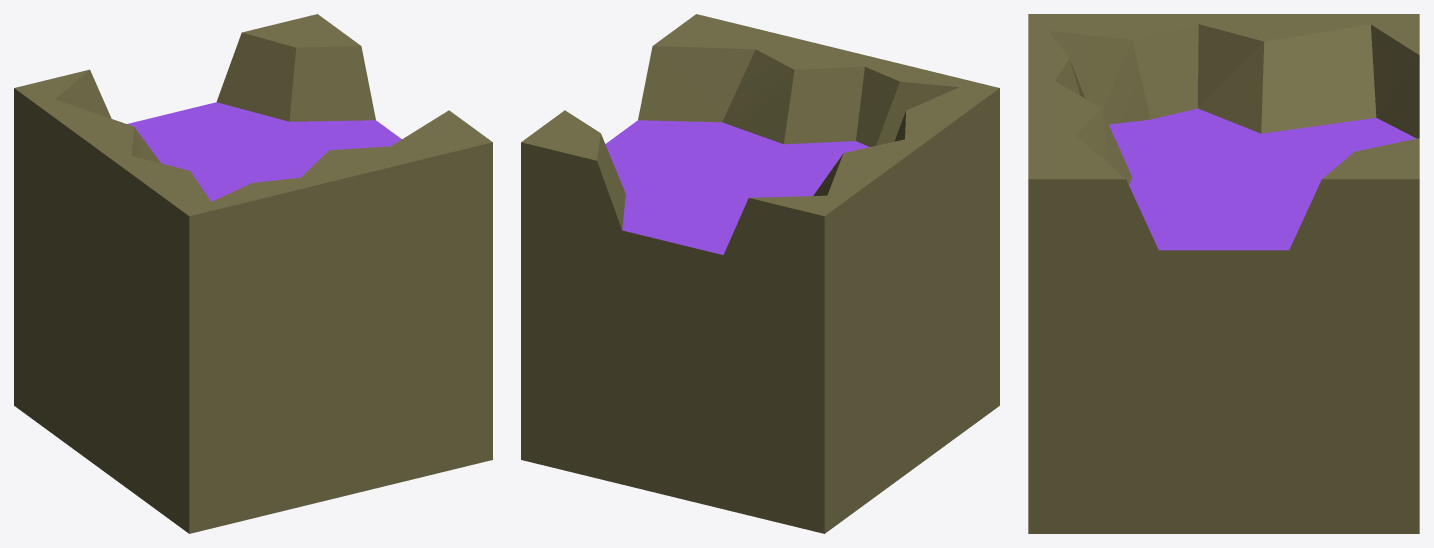
File: tile_toxic_deep2_4_01.fbx
3 renders of one model, left to right at view 1: azimuth 30°, elevation 25°; view 2: azimuth 150°, elevation 25°; view 3: azimuth 270°, elevation 25°, orthographic. The views are drawn at different scales.
Parts seen in each view (by area): view 1: tile_toxic_deep2_4_01; view 2: tile_toxic_deep2_4_01; view 3: tile_toxic_deep2_4_01.
Part boxes in pixels (<box>): tile_toxic_deep2_4_01: <box>14,14,492,533</box>; tile_toxic_deep2_4_01: <box>521,14,999,533</box>; tile_toxic_deep2_4_01: <box>1028,14,1419,533</box>.
Bounding box in the file's own units: 100 × 100 × 100.
